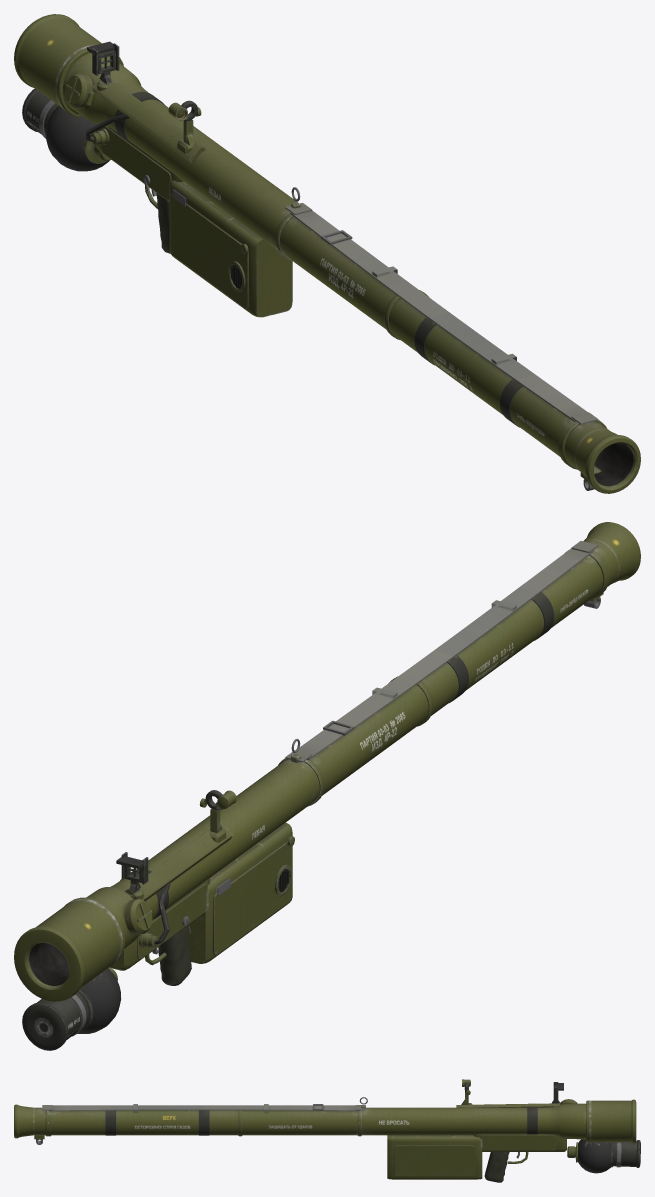
Rendered from mp_iglas.glb.
The picture shows the model from 3 angles, top to bottom: view 1: azimuth 30°, elevation 25°; view 2: azimuth 150°, elevation 25°; view 3: azimuth 270°, elevation 25°; orthographic projection. The views are drawn at different scales.
Visible parts, largest first — view 1: body|IGS_L; view 2: body|IGS_L; view 3: body|IGS_L.
Part boxes in pixels (bbox=[...]): body|IGS_L: bbox=[14, 14, 640, 493]; body|IGS_L: bbox=[14, 522, 640, 1050]; body|IGS_L: bbox=[14, 1079, 640, 1182].
Bounding box in the file's own units: 0.1389 × 0.3043 × 1.81.
Materials: 1 (1 with a texture image).
